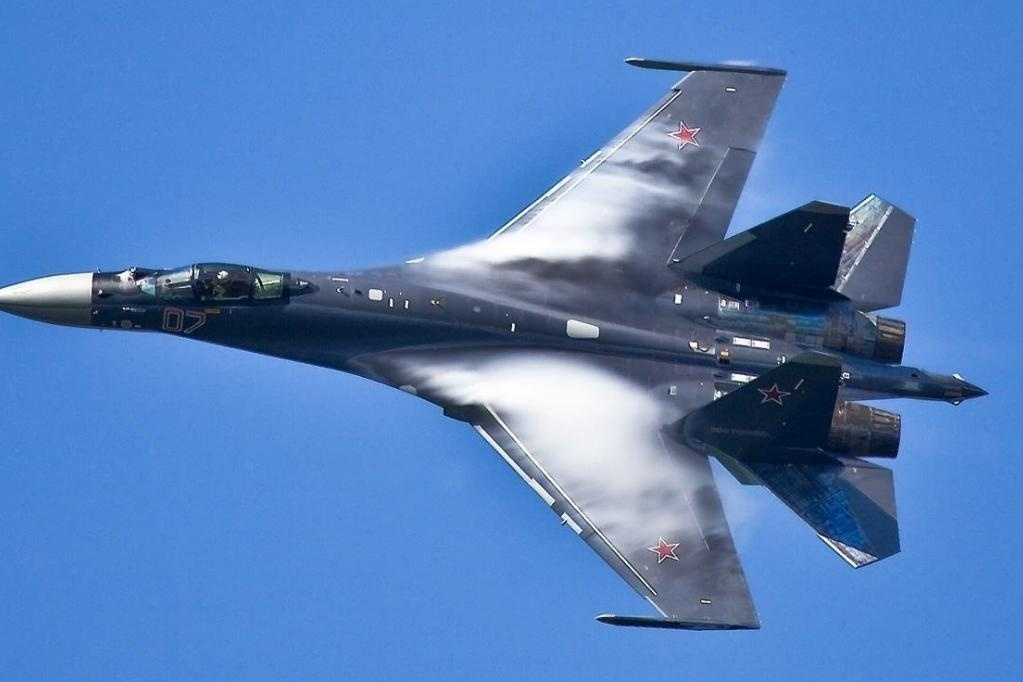airplane: (4, 46, 991, 634)
